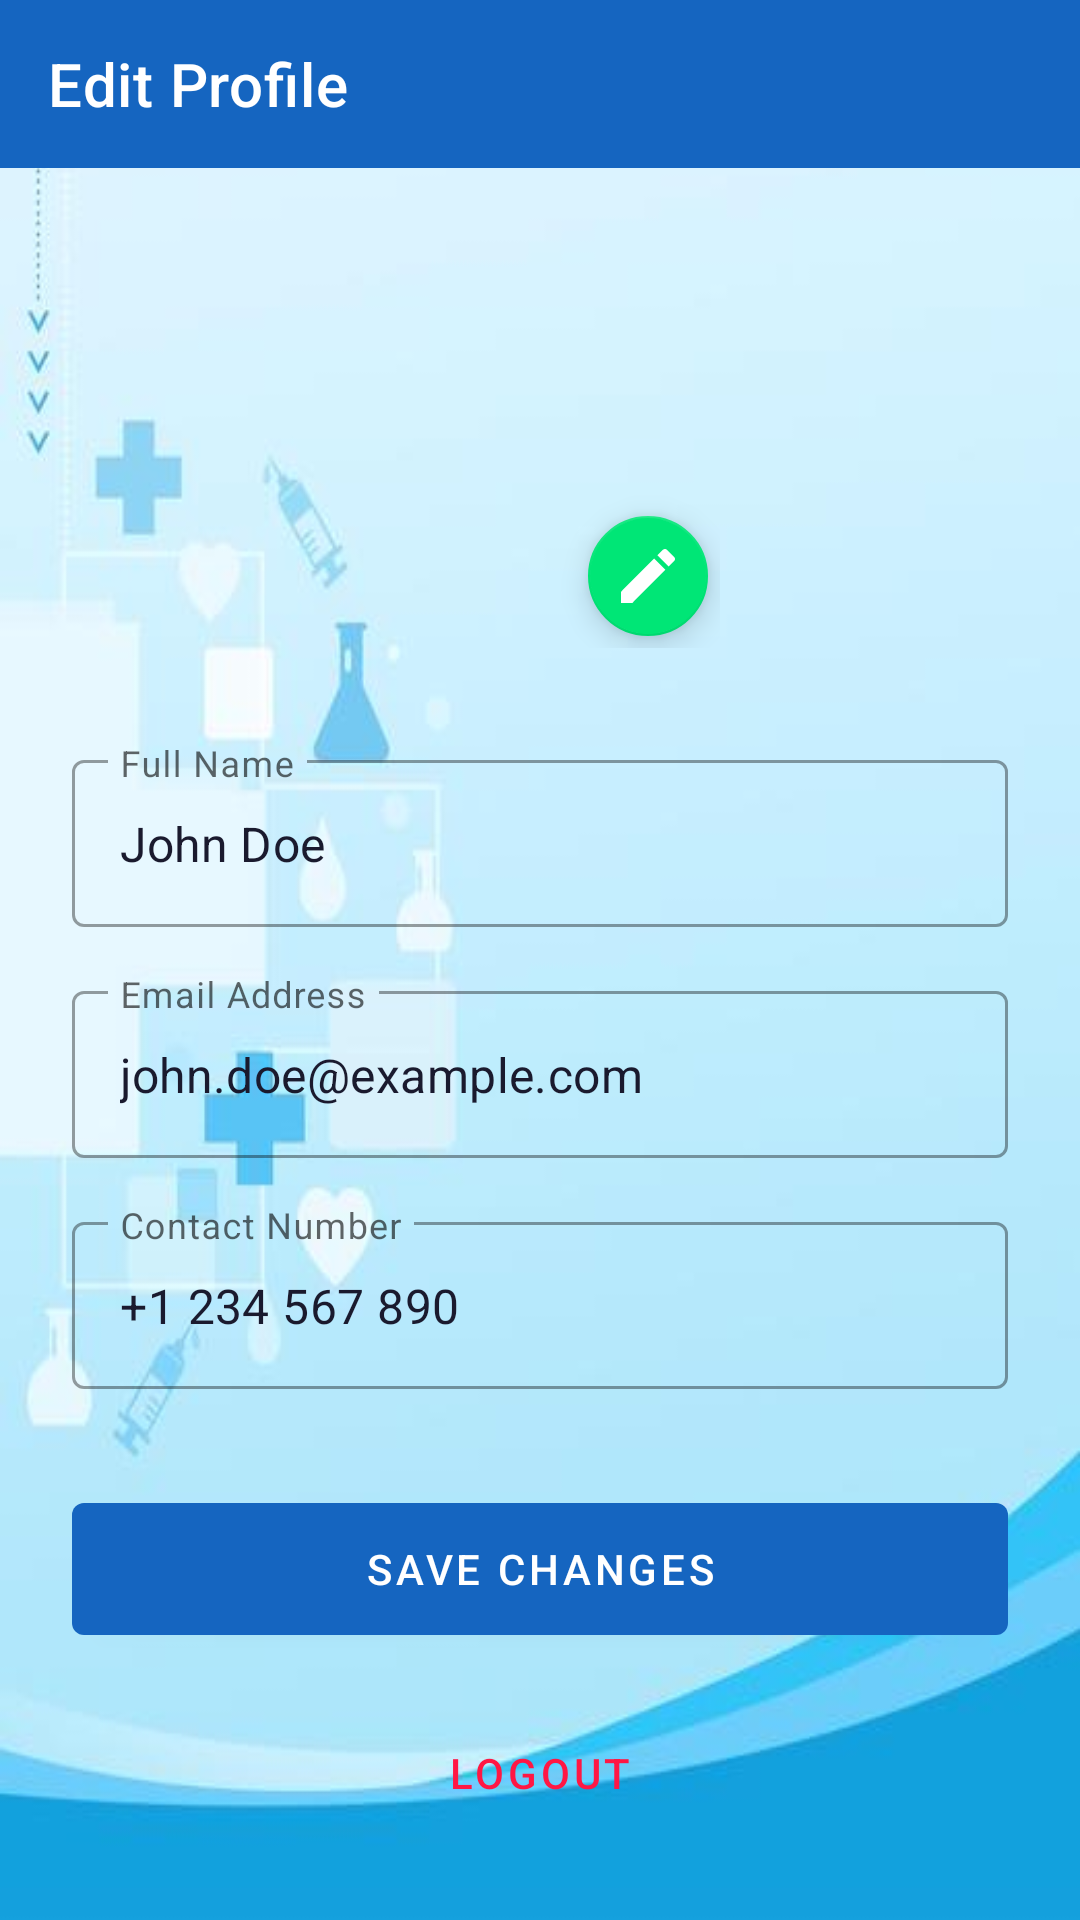

Icons on this 1080×1920 Android screen, each with the point to tap as [x,y]:
Change Photo: [648,577]
